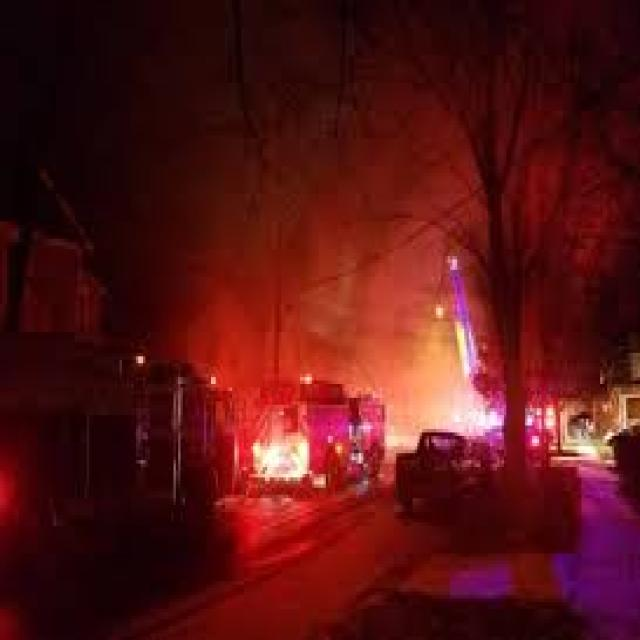Fire: (244, 398, 321, 512)
Smoke: (138, 19, 373, 275)
